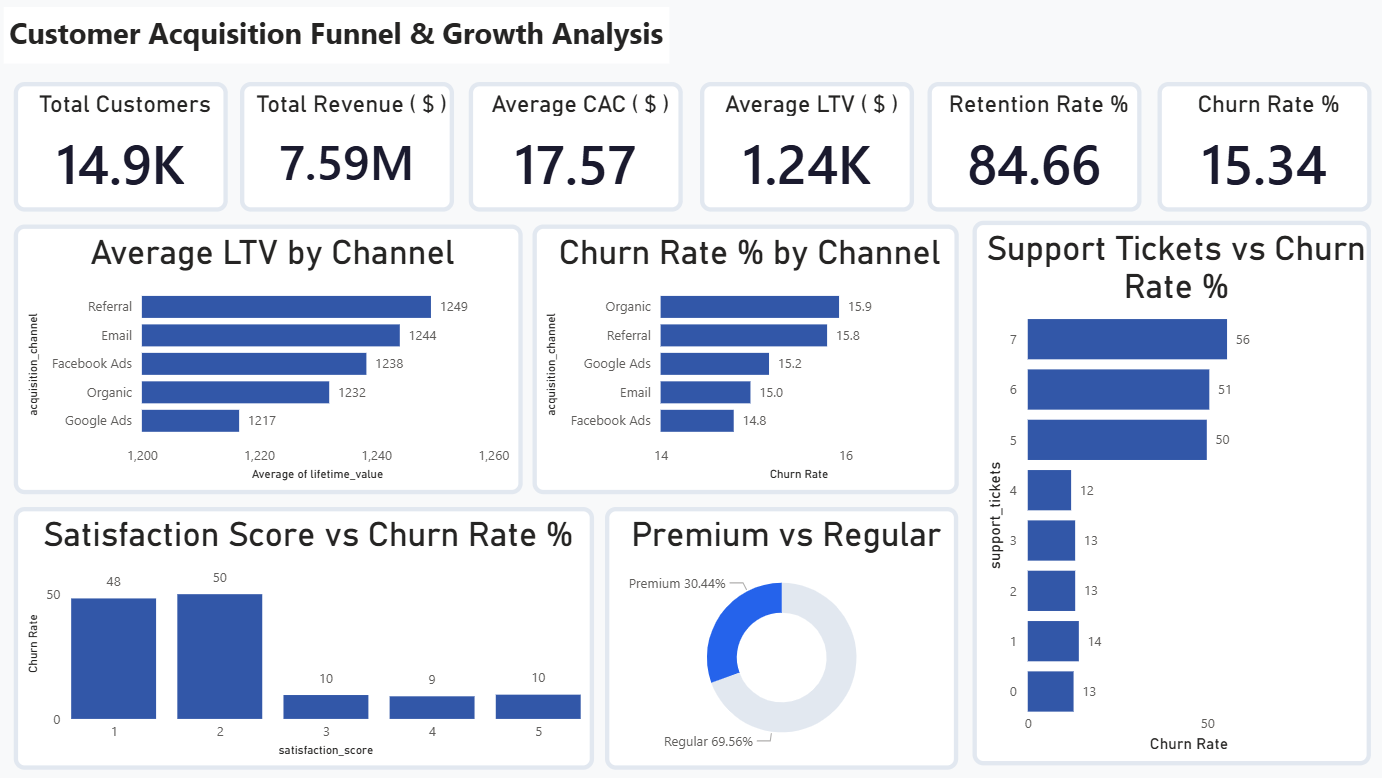

This screenshot's page, from the dashboard's own definition file:
{"tool":"powerbi","page":{"name":"Growth Analysis Overview","canvas":[1280,720],"ordinal":0},"visuals":[{"type":"textbox","box":[8.3,9.5,611.9,52.4],"z":0},{"type":"cardVisual","title":"Total Customers","fields":{"Data":["CountNonNull(funnel_clean_data.customer_id)"]},"box":[16.7,78.6,196.4,119],"z":1000},{"type":"cardVisual","title":"Total Revenue ( $ )","fields":{"Data":["Sum(funnel_clean_data.total_spent)"]},"box":[225,78.6,196.4,119],"z":2000},{"type":"cardVisual","title":"Churn Rate %","fields":{"Data":["funnel_clean_data.Churn Rate"]},"box":[1069,78.6,196.4,119],"z":3000},{"type":"cardVisual","title":"Retention Rate %","fields":{"Data":["funnel_clean_data.Retention Rate"]},"box":[857.1,78.6,196.4,119],"z":4000},{"type":"cardVisual","title":"Average CAC ( $ )","fields":{"Data":["Avg(funnel_clean_data.marketing_spend_per_user)"]},"box":[435.7,78.6,196.4,119],"z":5000},{"type":"cardVisual","title":"Average LTV ( $ )","fields":{"Data":["Avg(funnel_clean_data.lifetime_value)"]},"box":[648.8,78.6,196.4,119],"z":6000},{"type":"donutChart","title":"Premium vs Regular","fields":{"Y":["CountNonNull(funnel_clean_data.customer_id)"],"Category":["funnel_clean_data.Premium Label"]},"box":[560.7,469,325,241.7],"z":7000},{"type":"clusteredBarChart","title":"Average LTV by Channel","fields":{"Category":["funnel_clean_data.acquisition_channel"],"Y":["Avg(funnel_clean_data.lifetime_value)"]},"box":[16.7,209.5,467.9,247.6],"z":8000},{"type":"clusteredBarChart","title":"Churn Rate % by Channel","fields":{"Category":["funnel_clean_data.acquisition_channel"],"Y":["funnel_clean_data.Churn Rate"]},"box":[494,209.5,391.7,247.6],"z":9000},{"type":"lineClusteredColumnComboChart","title":"Satisfaction Score vs Churn Rate %","fields":{"Category":["funnel_clean_data.satisfaction_score"],"Y":["funnel_clean_data.Churn Rate"]},"box":[16.7,469,533.3,241.7],"z":10000},{"type":"clusteredBarChart","title":"Support Tickets vs Churn Rate %","fields":{"Category":["funnel_clean_data.support_tickets"],"Y":["funnel_clean_data.Churn Rate"]},"box":[898.8,206,366.7,501.2],"z":11000}]}

Visuals, with their boxes in screenshot pixels (x1, y1, x2, y2), scaled from the page's 1280x720 canvas onto the 1382x778 screenshot:
textbox: 9:10:670:67
"Total Customers" cardVisual: 18:85:230:214
"Total Revenue ( $ )" cardVisual: 243:85:455:214
"Churn Rate %" cardVisual: 1154:85:1366:214
"Retention Rate %" cardVisual: 925:85:1137:214
"Average CAC ( $ )" cardVisual: 470:85:682:214
"Average LTV ( $ )" cardVisual: 701:85:913:214
"Premium vs Regular" donutChart: 605:507:956:768
"Average LTV by Channel" clusteredBarChart: 18:226:523:494
"Churn Rate % by Channel" clusteredBarChart: 533:226:956:494
"Satisfaction Score vs Churn Rate %" lineClusteredColumnComboChart: 18:507:594:768
"Support Tickets vs Churn Rate %" clusteredBarChart: 970:223:1366:764
